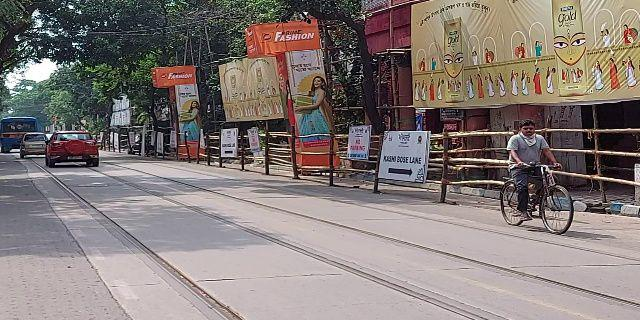Bus: (1, 111, 38, 152)
Car: (42, 128, 99, 171), (20, 129, 45, 158)
Cycle: (493, 118, 578, 236)
